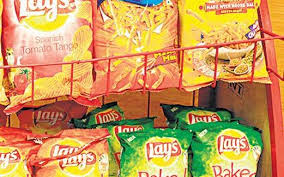plastic: (2, 1, 279, 95), (6, 118, 261, 177)
wrapper: (14, 131, 260, 177), (187, 123, 264, 177), (115, 127, 194, 176)
